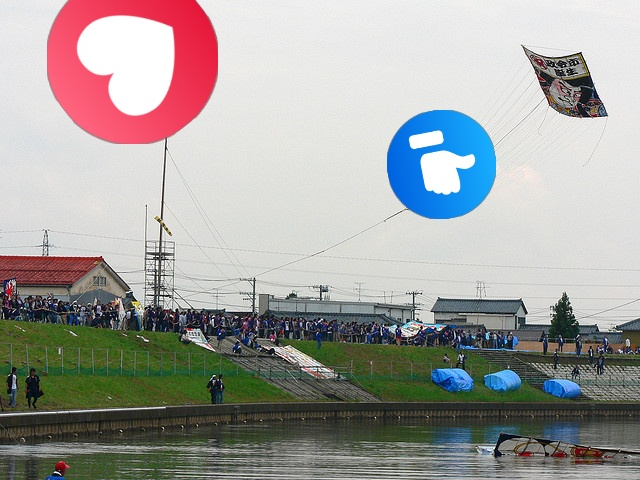like: (387, 110, 496, 219)
love: (47, 0, 218, 144)
